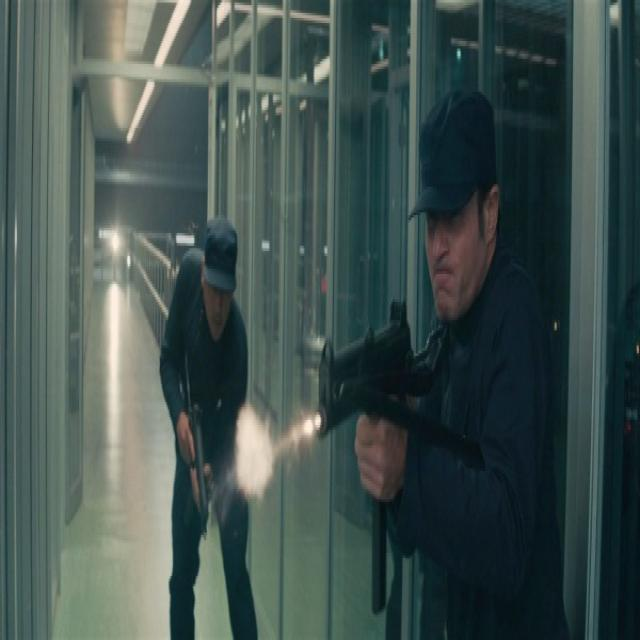rifle: (315, 294, 453, 620), (182, 350, 213, 546)
